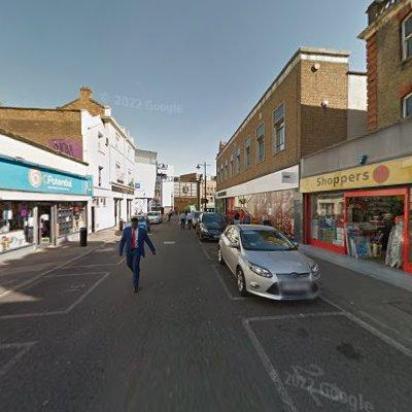stationary-car-onstreet: (216, 223, 320, 303), (196, 210, 228, 242), (126, 215, 148, 233), (144, 209, 162, 223)
